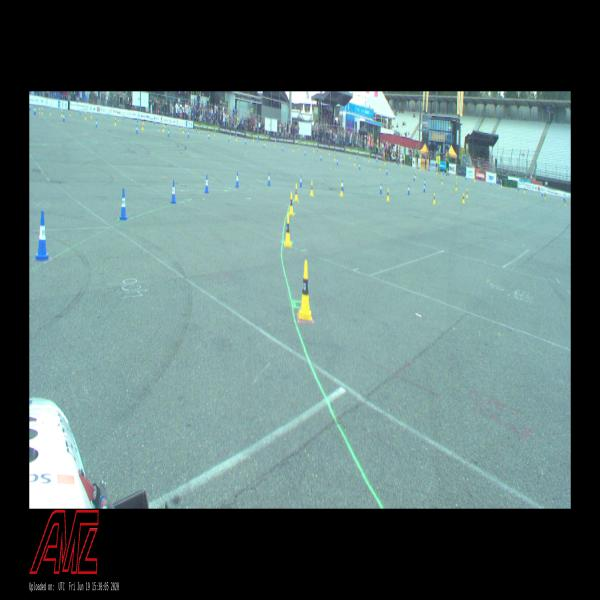blue_cone: (34, 211, 50, 261), (120, 188, 128, 220), (171, 180, 176, 204), (204, 174, 209, 193), (235, 172, 239, 187), (299, 175, 302, 187), (379, 183, 382, 194), (407, 184, 410, 194), (268, 173, 270, 185), (95, 119, 98, 127), (342, 179, 344, 191), (136, 126, 138, 133), (386, 167, 388, 174), (424, 185, 426, 192), (63, 114, 65, 121), (413, 173, 415, 180), (563, 193, 565, 200), (320, 153, 322, 160), (208, 132, 210, 139), (263, 142, 265, 148), (228, 136, 230, 142), (50, 105, 52, 111), (29, 104, 31, 110), (304, 150, 306, 155), (490, 180, 492, 185), (465, 175, 467, 180), (376, 157, 378, 162), (316, 147, 318, 152), (79, 109, 81, 114), (424, 178, 425, 186), (359, 162, 360, 170), (282, 146, 284, 150), (168, 129, 169, 136), (337, 158, 338, 165), (188, 131, 189, 137), (542, 190, 543, 196), (518, 185, 519, 191), (235, 133, 236, 138), (137, 118, 138, 123), (123, 115, 124, 120), (154, 120, 155, 125), (245, 140, 246, 144), (357, 154, 358, 158), (257, 138, 258, 142), (196, 127, 197, 131), (108, 114, 109, 118)
yellow_cone: (298, 260, 312, 320), (284, 215, 291, 247), (289, 193, 294, 215), (294, 184, 298, 201), (310, 181, 314, 196), (386, 188, 390, 201), (340, 183, 343, 196), (462, 193, 465, 204), (114, 118, 117, 126), (433, 192, 435, 204), (466, 189, 468, 198), (34, 105, 36, 114), (84, 112, 86, 120), (564, 198, 566, 206), (455, 183, 457, 190), (441, 177, 443, 184), (142, 123, 144, 130), (379, 164, 381, 171), (500, 181, 502, 188), (544, 192, 546, 199), (415, 172, 417, 178), (214, 130, 216, 136), (313, 148, 315, 154), (320, 151, 322, 157), (334, 155, 336, 161), (349, 153, 351, 159), (368, 156, 370, 162), (384, 158, 386, 164), (524, 187, 526, 193), (179, 126, 181, 131), (474, 176, 476, 181), (182, 128, 184, 132), (118, 117, 120, 121), (297, 146, 299, 150), (354, 158, 355, 166), (61, 110, 62, 116), (39, 108, 40, 114), (42, 108, 43, 114), (50, 110, 51, 116), (70, 110, 71, 116), (163, 126, 164, 132), (199, 128, 200, 134), (208, 130, 209, 136), (236, 135, 237, 141), (265, 140, 266, 146), (91, 113, 92, 118), (230, 133, 231, 138), (293, 146, 294, 151), (329, 150, 330, 155), (419, 166, 420, 171), (456, 173, 457, 178), (253, 137, 254, 141), (275, 142, 276, 146)
